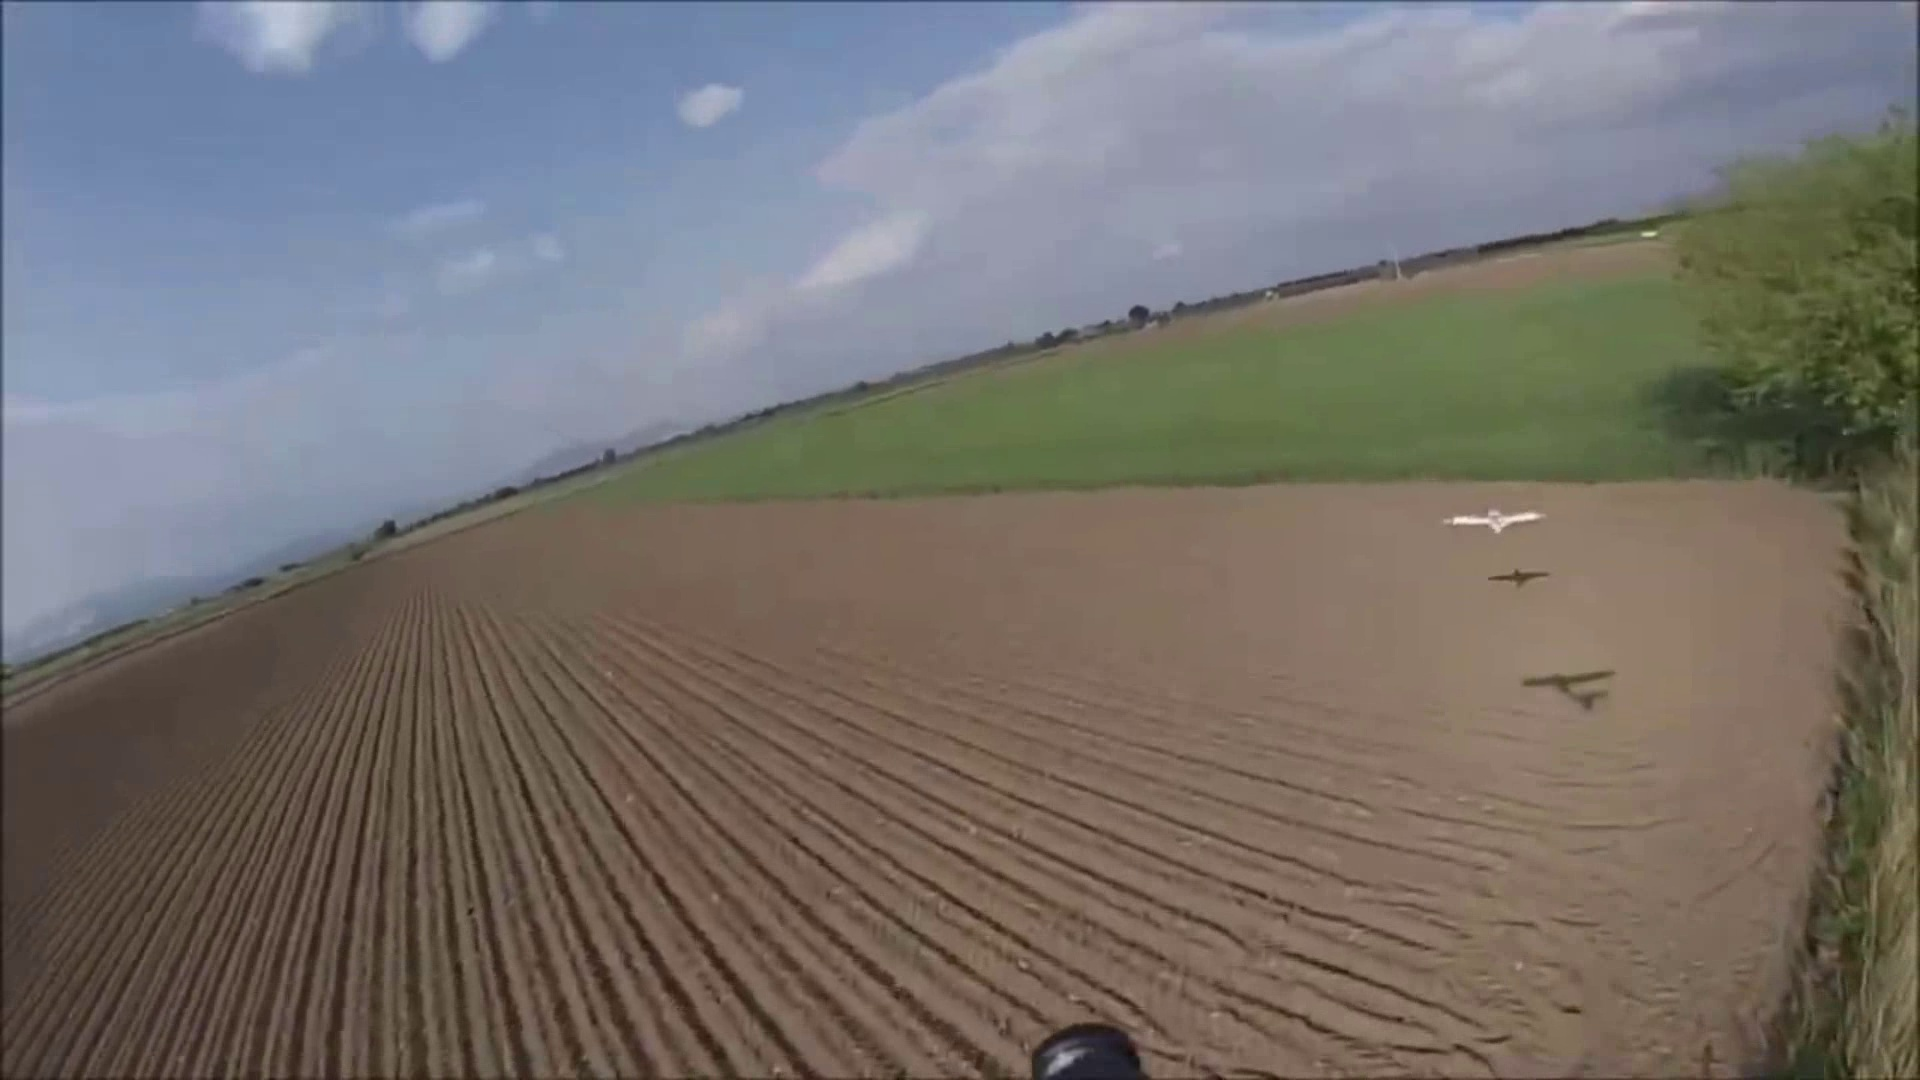airplane: (1443, 509, 1545, 533), (1487, 568, 1553, 585)
